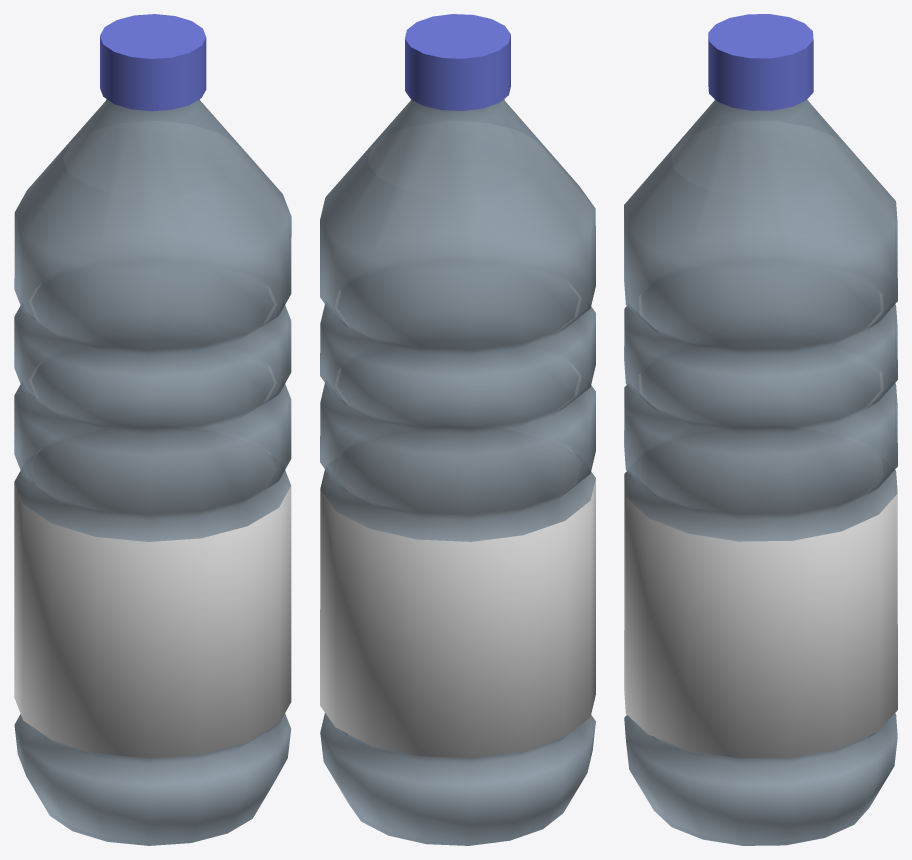
File: Agua.fbx
3 renders of one model, left to right at view 1: azimuth 30°, elevation 25°; view 2: azimuth 150°, elevation 25°; view 3: azimuth 270°, elevation 25°, orthographic.
Parts seen in each view (by area): view 1: Object_4; view 2: Object_4; view 3: Object_4.
Part boxes in pixels (bbox=[...]): Object_4: bbox=[14, 14, 291, 845]; Object_4: bbox=[320, 14, 595, 845]; Object_4: bbox=[624, 14, 897, 845].
Size of the model in its own units: 28.76 by 88.54 by 28.75.
